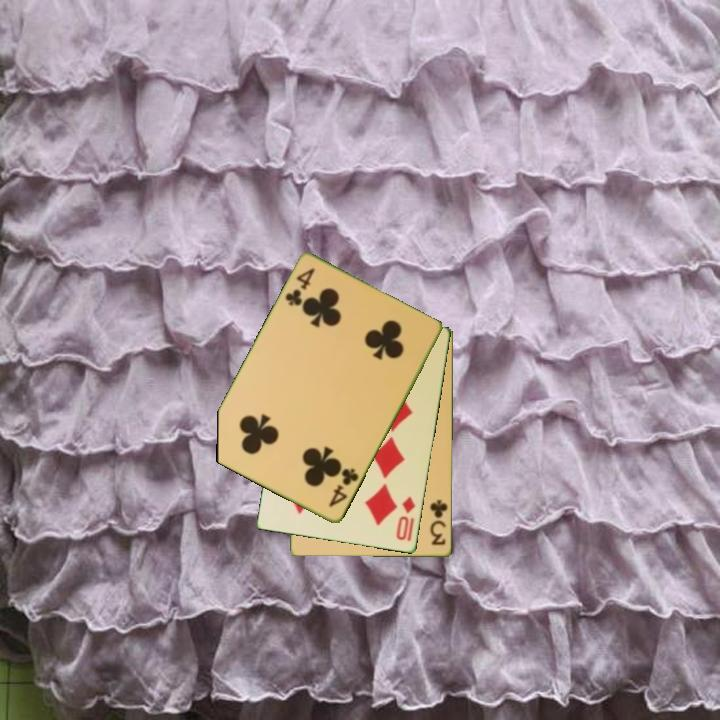10d: (393, 493, 418, 543)
3c: (427, 497, 450, 548)
4c: (325, 465, 362, 510), (282, 264, 318, 309)
